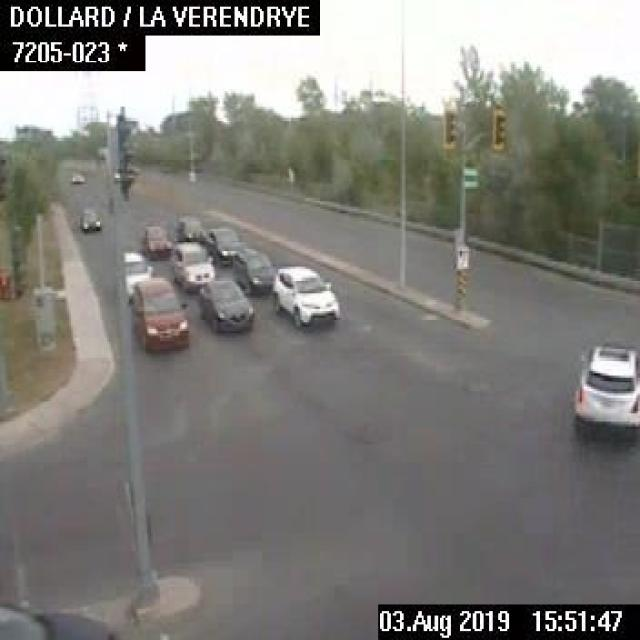vehicle: (569, 338, 638, 442), (270, 260, 341, 328), (0, 600, 115, 638), (126, 283, 188, 353), (197, 276, 257, 334), (230, 244, 280, 294), (171, 240, 220, 285), (119, 252, 152, 299), (203, 225, 243, 262), (139, 223, 175, 256), (175, 212, 202, 242), (78, 207, 100, 233), (71, 167, 85, 184)
